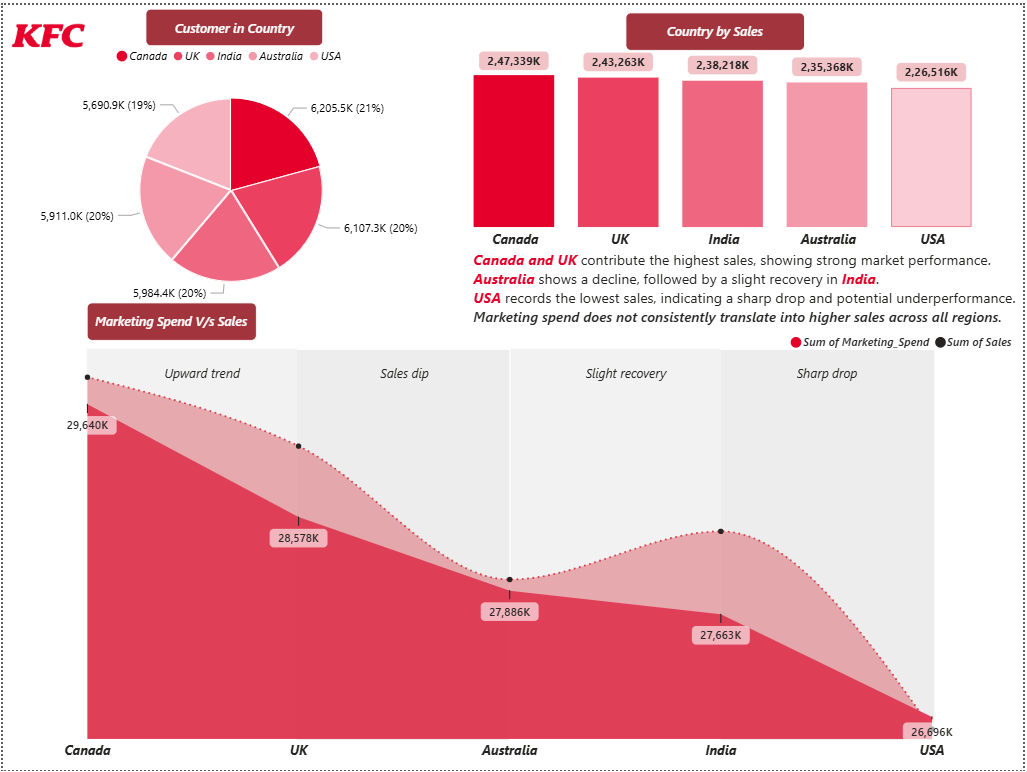

The dashboard page shown, as its layout file describes it:
{"tool":"powerbi","page":{"name":"country analysis","canvas":[960,720],"ordinal":1},"visuals":[{"type":"shape","box":[277,324.5,200.1,367.5],"z":0},{"type":"shape","box":[79.1,323.4,197.9,367.5],"z":1000},{"type":"shape","box":[477.1,323.4,197.9,367.5],"z":2000},{"type":"shape","box":[675,324.5,201.3,367.5],"z":3000},{"type":"areaChart","fields":{"Category":["KFC_Past_Sales_Dataset.Country"],"Y2":["Sum(KFC_Past_Sales_Dataset.Sales)"],"Y":["Sum(KFC_Past_Sales_Dataset.Marketing_Spend)"]},"box":[0,298.5,958.8,420.6],"z":4000},{"type":"pieChart","fields":{"Category":["KFC_Past_Sales_Dataset.Country"],"Y":["Sum(KFC_Past_Sales_Dataset.Customers)"]},"box":[0,29.4,429.7,262.3],"z":5000},{"type":"textbox","box":[134.5,3.4,167.3,35.1],"z":6000},{"type":"columnChart","fields":{"Category":["KFC_Past_Sales_Dataset.Country"],"Y":["Sum(KFC_Past_Sales_Dataset.Sales)"]},"box":[398.8,32.5,560,206.2],"z":7000},{"type":"textbox","box":[585.7,6.8,168.5,36.2],"z":8000},{"type":"textbox","box":[135.7,331.3,104,28.3],"z":9000},{"type":"textbox","box":[325.6,331.3,104,28.3],"z":10000},{"type":"textbox","box":[723.6,331.3,104,28.3],"z":11000},{"type":"textbox","box":[509.9,331.3,150.4,28.3],"z":12000},{"type":"textbox","box":[78.8,280,160,36.2],"z":13000},{"type":"textbox","box":[437.5,226.2,522.5,87.5],"z":14000},{"type":"image","box":[7.9,0,71.2,57.7],"z":14001}]}

Visuals, with their boxes in screenshot pixels (x1, y1, x2, y2), scaled from the page's 960x720 canvas onto the 1027x772 screenshot:
shape: <region>296, 348, 510, 742</region>
shape: <region>85, 347, 296, 741</region>
shape: <region>510, 347, 722, 741</region>
shape: <region>722, 348, 937, 742</region>
areaChart - KFC_Past_Sales_Dataset.Country x Sum(KFC_Past_Sales_Dataset.Sales): <region>0, 320, 1026, 771</region>
pieChart - KFC_Past_Sales_Dataset.Country x Sum(KFC_Past_Sales_Dataset.Customers): <region>0, 32, 460, 313</region>
textbox: <region>144, 4, 323, 41</region>
columnChart - KFC_Past_Sales_Dataset.Country x Sum(KFC_Past_Sales_Dataset.Sales): <region>427, 35, 1026, 256</region>
textbox: <region>627, 7, 807, 46</region>
textbox: <region>145, 355, 256, 386</region>
textbox: <region>348, 355, 460, 386</region>
textbox: <region>774, 355, 885, 386</region>
textbox: <region>545, 355, 706, 386</region>
textbox: <region>84, 300, 255, 339</region>
textbox: <region>468, 243, 1026, 336</region>
image: <region>8, 0, 85, 62</region>
